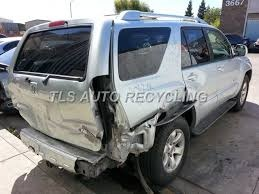Broken-glass: (96, 77, 115, 140)
Dent: (7, 80, 67, 155), (181, 68, 208, 90)
Smashed: (78, 112, 157, 183), (141, 103, 195, 144)
